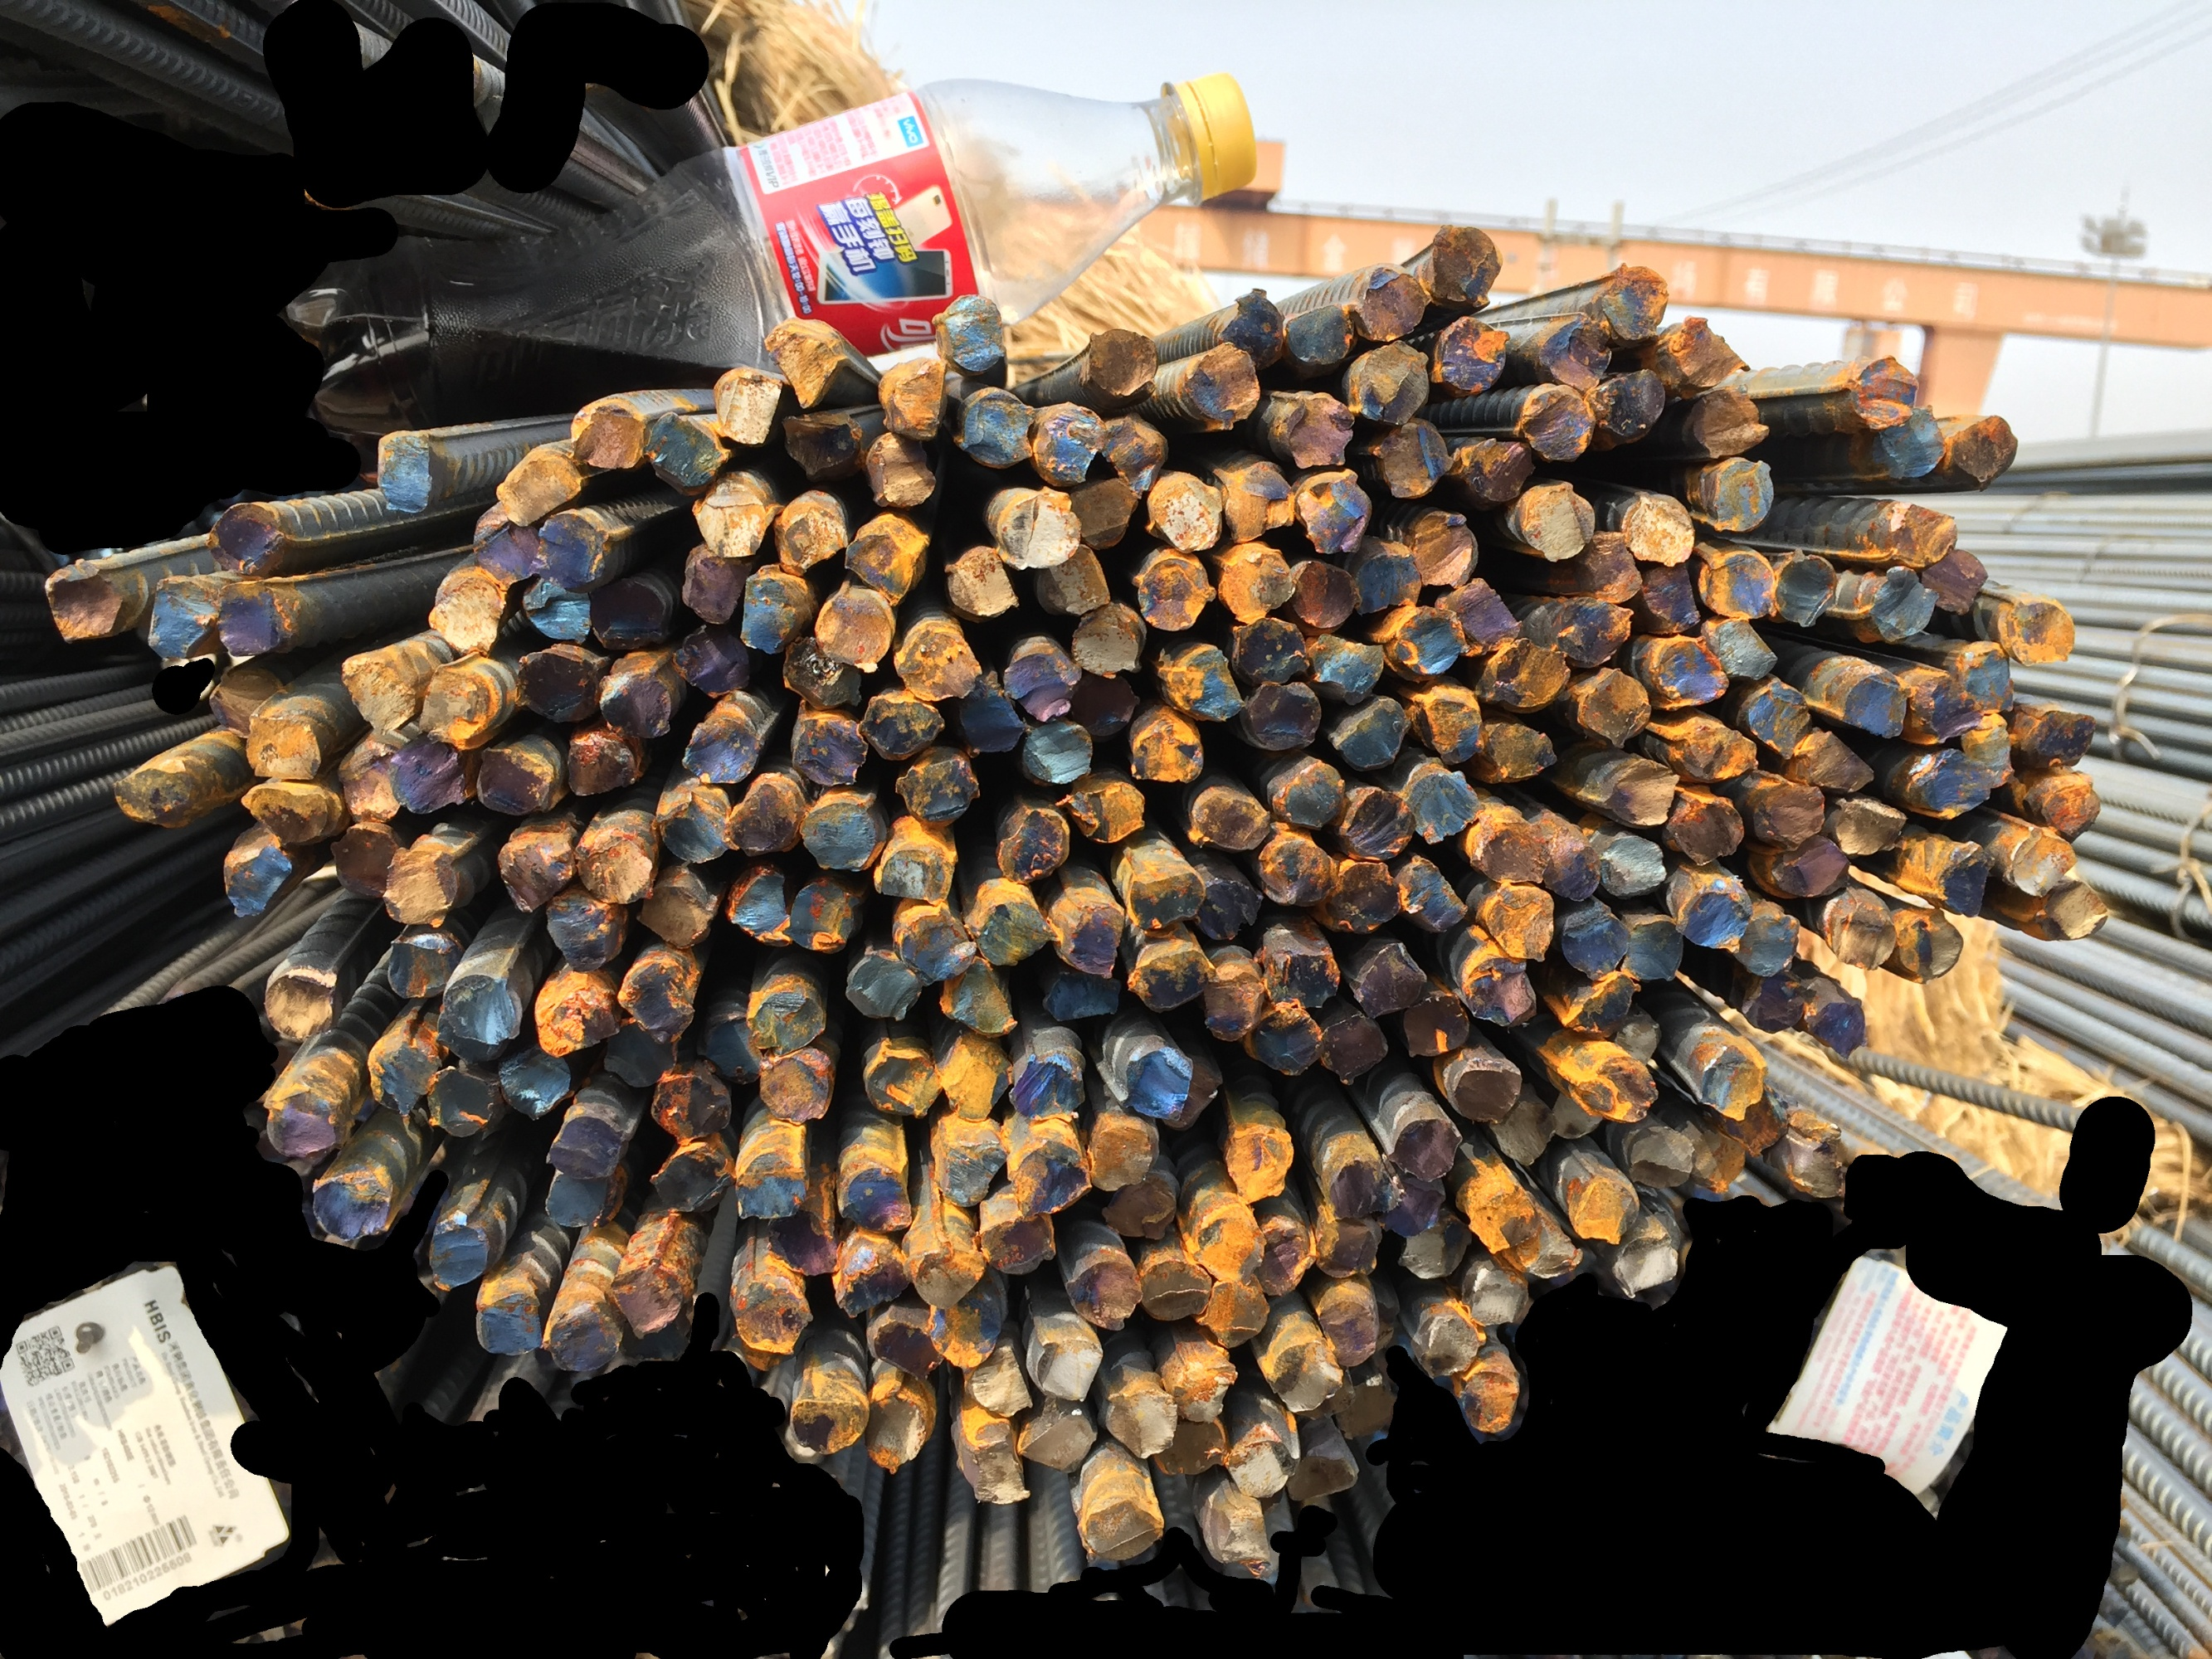rebar: (526, 511, 628, 591), (40, 554, 127, 647), (844, 512, 931, 605), (427, 568, 516, 657), (763, 315, 847, 410), (812, 580, 896, 671), (1370, 415, 1455, 502), (237, 779, 343, 849), (995, 484, 1081, 570), (1347, 340, 1433, 425), (894, 744, 981, 828), (892, 620, 981, 702), (493, 448, 584, 528), (1182, 342, 1262, 432), (1475, 638, 1571, 713), (544, 889, 629, 972), (535, 976, 622, 1058), (690, 476, 777, 558), (788, 701, 868, 789), (1661, 312, 1752, 390), (382, 847, 467, 929), (643, 411, 729, 493), (497, 828, 577, 915), (1433, 577, 1522, 655), (261, 1086, 352, 1162), (389, 730, 469, 816), (1006, 1138, 1091, 1218), (891, 906, 976, 986), (1157, 643, 1245, 721), (1398, 767, 1485, 845), (948, 671, 1025, 760), (113, 758, 207, 829), (955, 387, 1035, 471), (1351, 260, 1431, 343), (514, 647, 600, 725), (366, 1030, 443, 1117), (1429, 221, 1504, 310), (647, 1141, 737, 1215), (436, 972, 528, 1044), (732, 1274, 812, 1356), (1002, 640, 1082, 721), (338, 652, 417, 735), (786, 1382, 870, 1460), (617, 960, 695, 1044), (929, 293, 1008, 376), (1574, 667, 1652, 751), (1865, 403, 1949, 481), (204, 500, 289, 577), (1131, 554, 1217, 631), (1644, 636, 1729, 713), (418, 662, 492, 751), (940, 1033, 1013, 1122), (940, 542, 1020, 622), (1062, 1251, 1142, 1331), (261, 962, 343, 1040), (800, 793, 882, 871), (1431, 314, 1510, 396), (655, 781, 732, 864), (1382, 605, 1466, 681), (1520, 479, 1597, 563), (467, 500, 542, 586), (772, 491, 847, 577), (1687, 385, 1773, 460), (474, 744, 563, 816), (1276, 389, 1354, 469), (1691, 1040, 1769, 1121), (723, 775, 800, 857), (1297, 471, 1374, 552), (1455, 953, 1537, 1030), (1860, 566, 1937, 648), (781, 878, 865, 953), (1537, 310, 1612, 394), (310, 1169, 396, 1243), (146, 573, 218, 660), (859, 690, 947, 762), (1055, 889, 1124, 978), (1143, 474, 1222, 552), (992, 805, 1070, 884), (940, 958, 1018, 1037), (1351, 941, 1429, 1019), (1841, 354, 1919, 432), (1330, 695, 1410, 772), (1520, 383, 1597, 464), (1619, 488, 1696, 568), (542, 1298, 624, 1373), (1408, 685, 1483, 767), (971, 894, 1055, 967), (1077, 1492, 1164, 1561), (568, 394, 647, 471), (608, 1263, 687, 1340), (673, 622, 751, 699), (861, 1042, 940, 1119), (1907, 667, 1984, 746), (328, 821, 403, 901), (783, 636, 863, 711), (1119, 1042, 1194, 1122), (1126, 948, 1217, 1014), (573, 829, 655, 903), (650, 1072, 732, 1145), (680, 542, 753, 624), (1262, 1338, 1344, 1412), (779, 411, 863, 483), (723, 864, 793, 950), (1035, 401, 1105, 486), (866, 1387, 934, 1474), (1762, 833, 1851, 899), (218, 843, 295, 920), (207, 666, 286, 741), (844, 946, 922, 1021), (1069, 603, 1147, 678), (959, 1425, 1032, 1506), (711, 366, 784, 446), (589, 577, 671, 648), (905, 1239, 987, 1310), (877, 357, 948, 439), (1914, 748, 1996, 819), (544, 1112, 628, 1182), (744, 988, 830, 1056), (1574, 1056, 1659, 1124), (1595, 760, 1680, 828), (336, 737, 403, 824), (1218, 286, 1285, 373), (833, 1243, 910, 1317), (760, 1051, 835, 1127), (1222, 467, 1297, 544), (1218, 547, 1295, 622), (1102, 1168, 1178, 1243), (1837, 666, 1912, 742), (499, 1042, 572, 1121), (1307, 633, 1386, 706), (1665, 721, 1759, 782), (1698, 545, 1776, 619), (244, 709, 324, 781), (1259, 836, 1339, 908), (1483, 884, 1555, 964), (1600, 260, 1672, 340), (678, 716, 762, 784), (1877, 500, 1961, 568), (927, 1293, 1002, 1368), (1565, 1169, 1640, 1244), (1328, 861, 1403, 936), (868, 1309, 945, 1382), (1103, 1382, 1177, 1459), (1410, 1305, 1487, 1378), (1464, 1180, 1541, 1253), (835, 1162, 913, 1234), (865, 430, 936, 509), (1560, 901, 1630, 981), (1949, 413, 2019, 493), (634, 882, 716, 950), (1229, 617, 1311, 685), (1455, 436, 1537, 504), (1743, 678, 1811, 760), (739, 565, 800, 655), (373, 429, 438, 514), (600, 666, 675, 739), (1670, 793, 1745, 866), (1593, 366, 1666, 441), (2003, 592, 2076, 667), (1825, 896, 1898, 971), (1028, 1330, 1105, 1401), (2003, 826, 2080, 897), (1243, 1009, 1321, 1079), (1386, 1114, 1464, 1183), (1675, 882, 1754, 951), (1400, 856, 1469, 934), (1410, 509, 1480, 587), (1748, 777, 1827, 847), (1895, 906, 1964, 985), (565, 730, 645, 798), (1555, 598, 1635, 666), (695, 1006, 762, 1087), (1557, 972, 1640, 1037), (960, 1344, 1034, 1417), (425, 1066, 497, 1141), (736, 1148, 811, 1220), (1035, 544, 1110, 615), (1088, 1117, 1159, 1192), (1271, 756, 1346, 828), (1346, 786, 1417, 861), (1396, 1211, 1473, 1281), (1018, 1406, 1096, 1474), (1008, 1053, 1088, 1119), (427, 1209, 490, 1293), (521, 573, 593, 647), (603, 1018, 676, 1089), (1086, 328, 1159, 399), (767, 1208, 842, 1277), (940, 1133, 1009, 1208), (1191, 1213, 1265, 1283), (1225, 1126, 1293, 1202), (1245, 683, 1321, 751), (1321, 1011, 1389, 1087), (1473, 816, 1550, 884), (873, 843, 959, 904), (1255, 1213, 1316, 1298), (218, 580, 284, 659), (1797, 728, 1876, 795), (1952, 638, 2019, 716), (2025, 772, 2104, 838), (1105, 413, 1170, 493), (1774, 549, 1839, 629), (1069, 477, 1138, 551), (1130, 716, 1204, 784), (1706, 457, 1774, 532), (1483, 718, 1560, 784), (1185, 791, 1271, 850), (472, 1288, 544, 1358), (1290, 559, 1360, 631), (1199, 1279, 1271, 1349), (1126, 868, 1206, 929), (1935, 838, 1996, 918), (1515, 1209, 1584, 1279), (1168, 1354, 1239, 1422), (978, 1213, 1055, 1276), (1327, 1157, 1403, 1220), (1581, 528, 1644, 605), (1069, 782, 1147, 843), (385, 934, 455, 1002), (1353, 547, 1422, 615), (1400, 992, 1471, 1058), (1609, 1230, 1680, 1297), (1489, 1096, 1555, 1168), (1917, 549, 1989, 615), (1734, 906, 1801, 978), (1206, 1504, 1271, 1577), (1161, 1058, 1224, 1133), (1225, 1438, 1300, 1500), (1832, 795, 1907, 857), (1703, 617, 1780, 678), (544, 1169, 622, 1229), (1600, 831, 1668, 899), (1452, 1058, 1522, 1124), (1069, 674, 1140, 739), (1021, 720, 1093, 784), (2022, 706, 2095, 769), (1203, 967, 1264, 1042), (1265, 946, 1340, 1007), (434, 1007, 512, 1065), (1194, 877, 1262, 943), (1285, 301, 1354, 366), (1625, 1126, 1694, 1190), (1140, 1258, 1211, 1321), (2039, 878, 2111, 941), (1454, 1366, 1520, 1432), (1720, 1089, 1787, 1155), (1640, 561, 1701, 633), (1314, 1215, 1381, 1279), (1740, 969, 1806, 1033), (1042, 969, 1123, 1021), (1959, 713, 2015, 788), (1337, 1371, 1398, 1439), (1157, 1415, 1227, 1474), (1318, 1297, 1377, 1366), (1623, 913, 1682, 983), (1804, 993, 1867, 1058), (1543, 831, 1602, 899), (1689, 1126, 1747, 1195), (1464, 1265, 1529, 1326), (1377, 1180, 1445, 1237), (1788, 1136, 1849, 1199), (1285, 1453, 1358, 1502), (1292, 1368, 1356, 1419), (1801, 1108, 1851, 1166), (1551, 1089, 1607, 1140), (1609, 1018, 1661, 1065), (1370, 1297, 1400, 1354), (1654, 1208, 1682, 1251)
